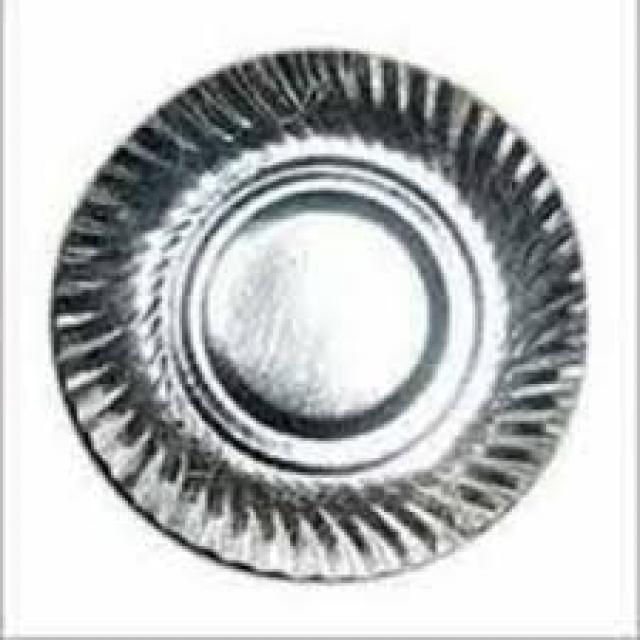metal: (48, 48, 589, 583)
